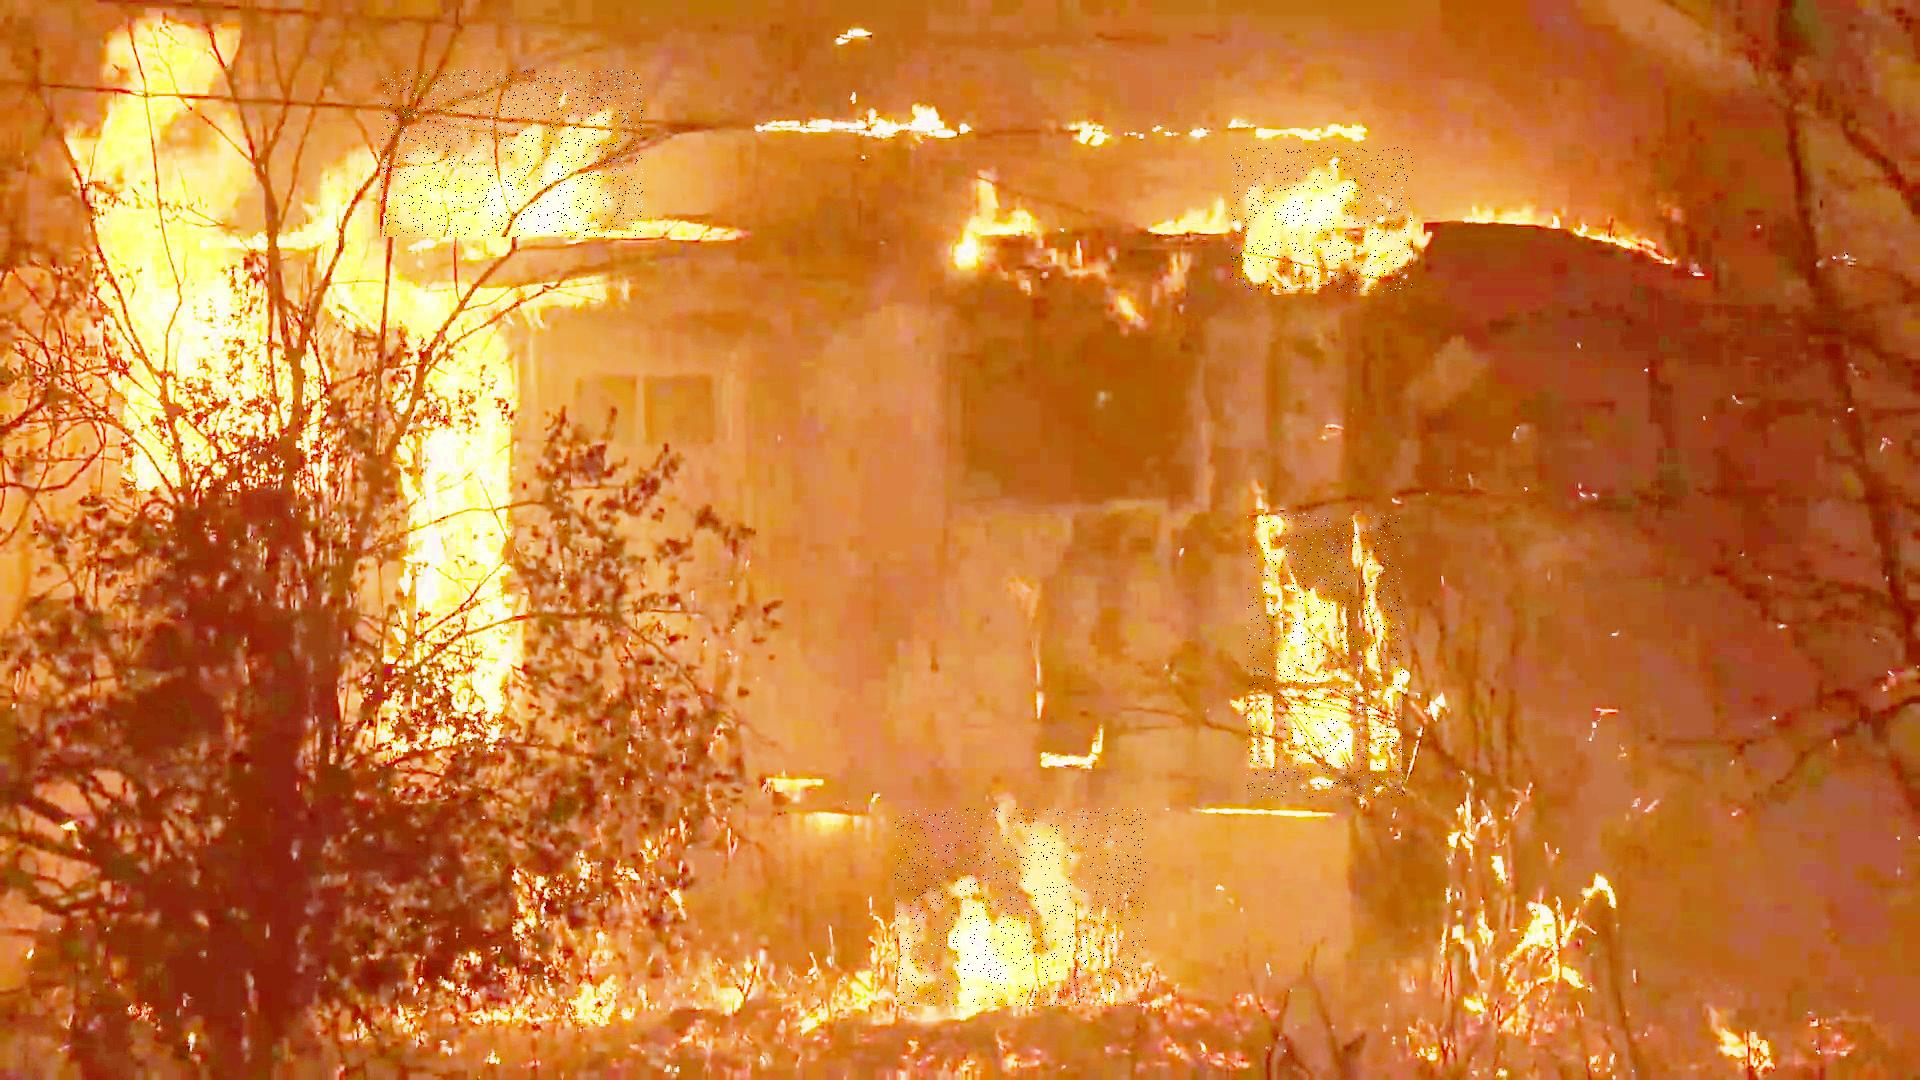fire: (895, 808, 1147, 1006), (1247, 516, 1404, 800), (380, 70, 644, 237), (1230, 148, 1414, 293)
